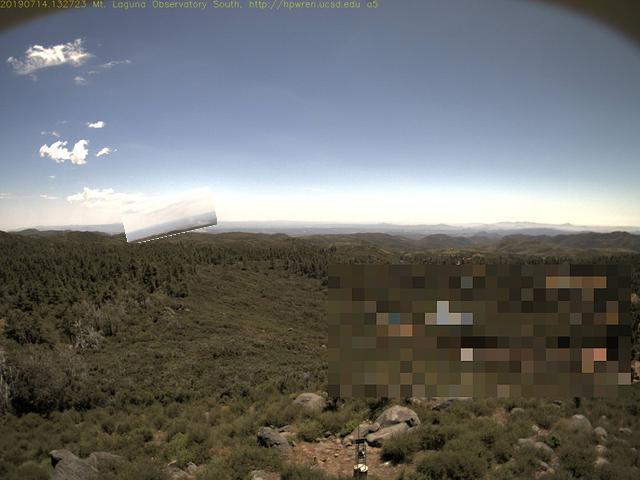smoke: (123, 192, 218, 241)
